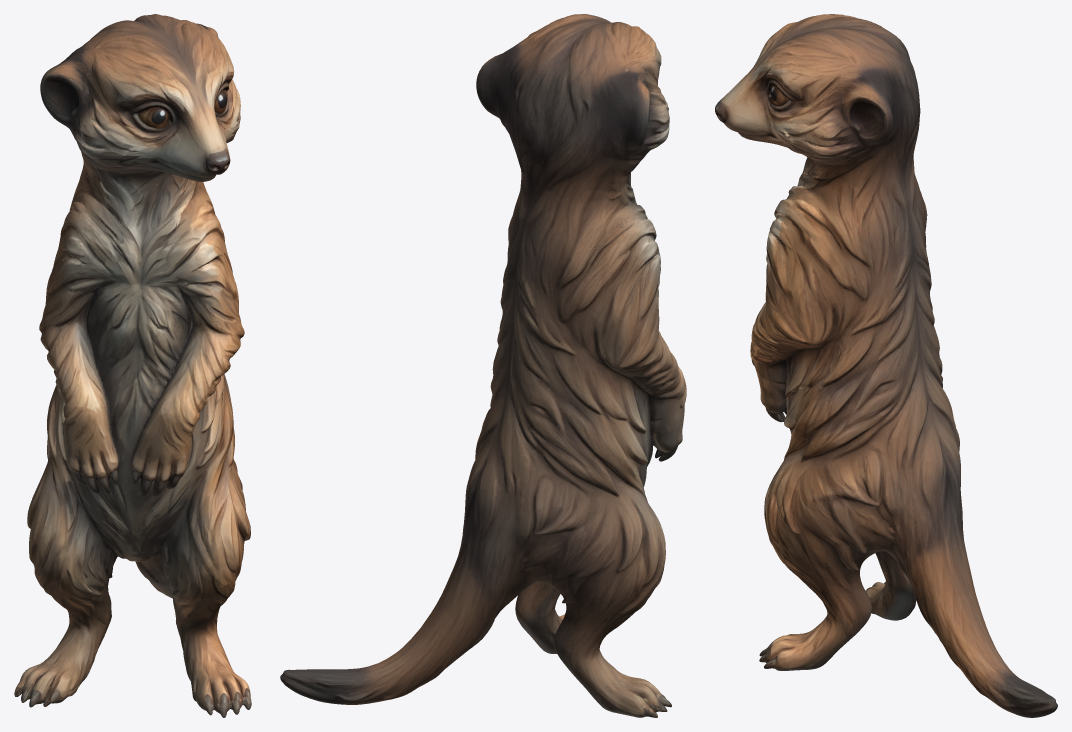
File: Meerkat.glb
3 renders of one model, left to right at view 1: azimuth 30°, elevation 25°; view 2: azimuth 150°, elevation 25°; view 3: azimuth 270°, elevation 25°, orthographic. The views are drawn at different scales.
Visible parts, largest first — view 1: output_unwrapped; view 2: output_unwrapped; view 3: output_unwrapped.
Boxes of the visible parts, x1,y1,x2,y2 form: output_unwrapped: [14, 14, 251, 717]; output_unwrapped: [280, 14, 686, 717]; output_unwrapped: [715, 14, 1057, 717].
Bounding box in the file's own units: 0.9223 × 1.9 × 0.9544.
Materials: 1 (1 with a texture image).
